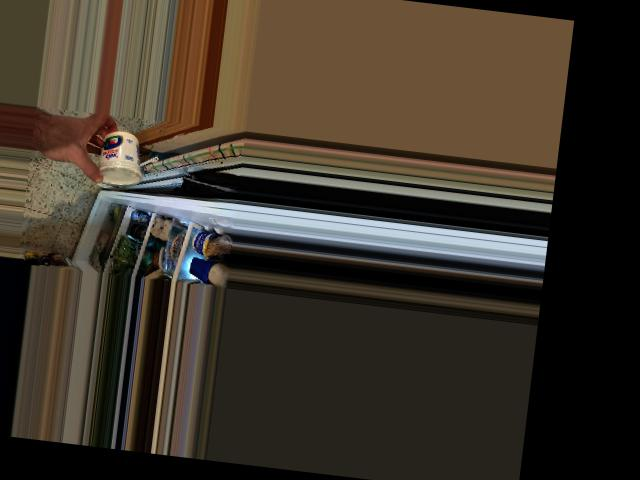cotage: (85, 122, 148, 191)
